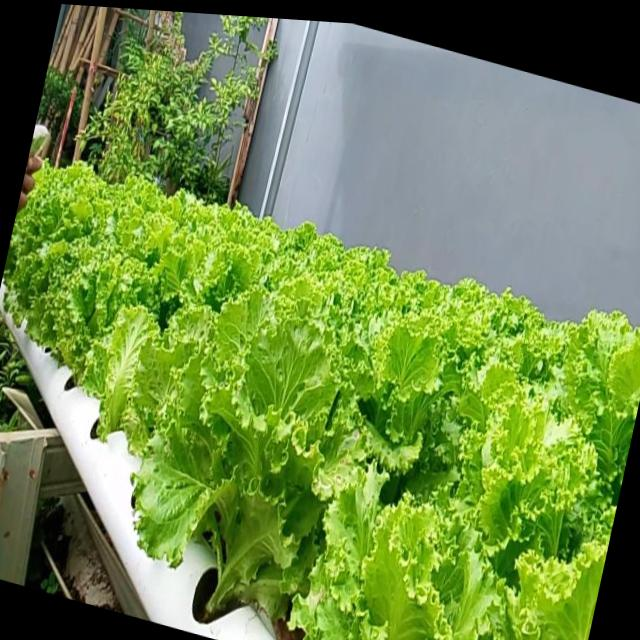Mature: (0, 163, 640, 640), (140, 308, 358, 636), (33, 251, 150, 415)
